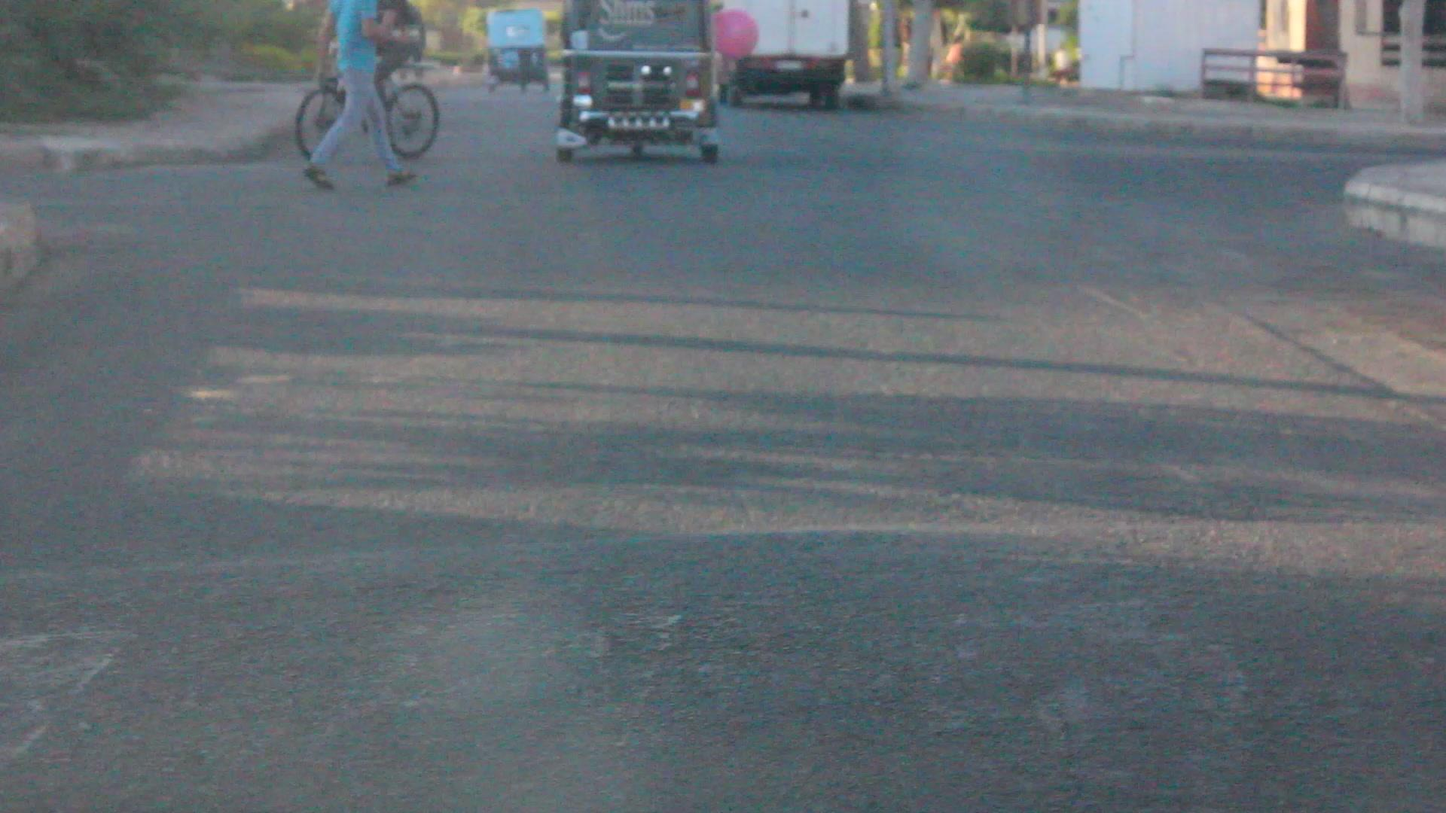Bump: (0, 521, 1445, 793)
